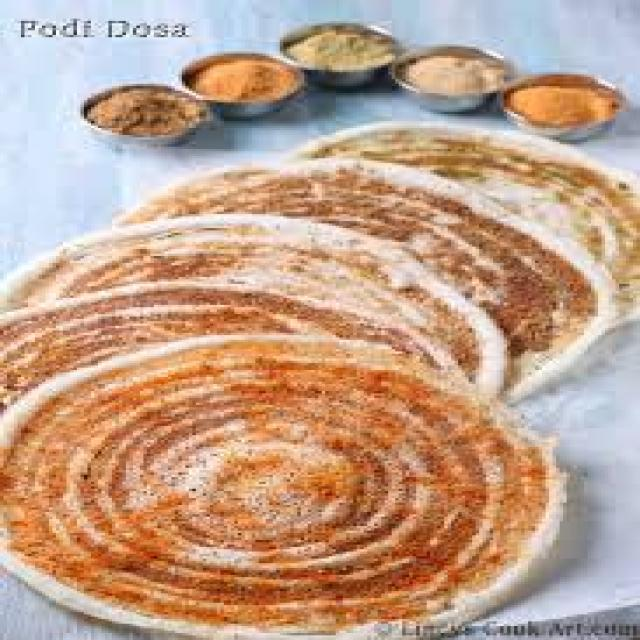DOSA: (11, 339, 565, 638), (128, 151, 600, 386), (1, 200, 505, 389), (309, 121, 637, 326), (8, 277, 440, 417)
